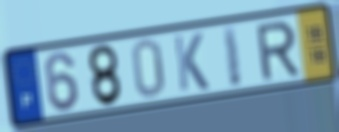0: (129, 37, 168, 102)
6: (42, 50, 80, 114)
8: (86, 43, 123, 108)
I: (220, 22, 244, 91)
K: (171, 30, 212, 93)
R: (254, 18, 302, 83)
